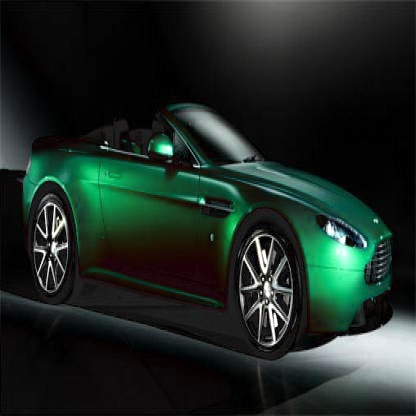Vehicle: (10, 88, 406, 394)
